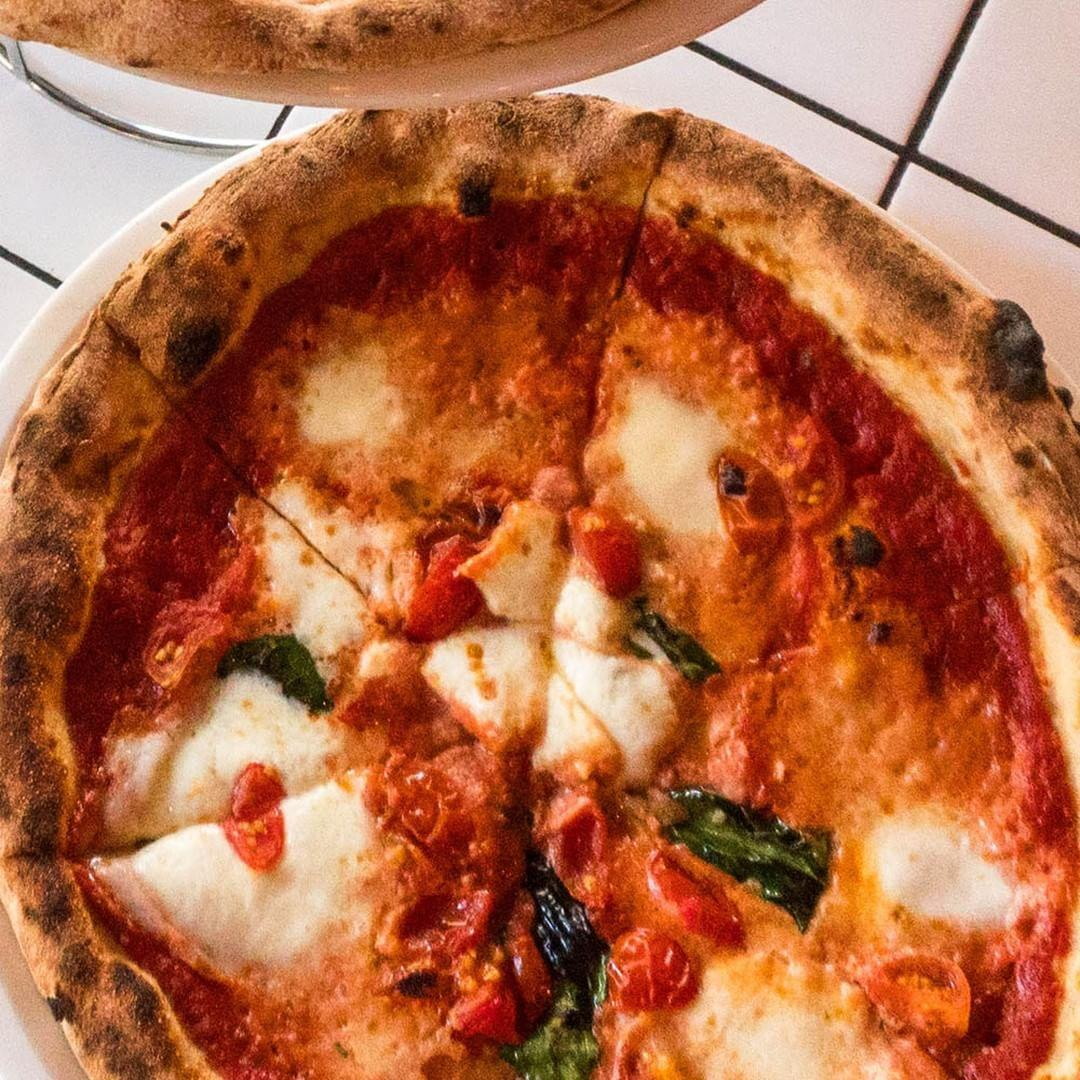Basil: (516, 850, 621, 1080), (669, 782, 829, 927), (214, 626, 329, 717), (626, 590, 732, 684)
Pizza: (0, 100, 1080, 1080)
Tomatoes: (867, 947, 981, 1048), (705, 450, 803, 557), (643, 852, 746, 951), (218, 755, 294, 877), (553, 501, 649, 590), (604, 930, 697, 1009), (403, 540, 482, 630)
